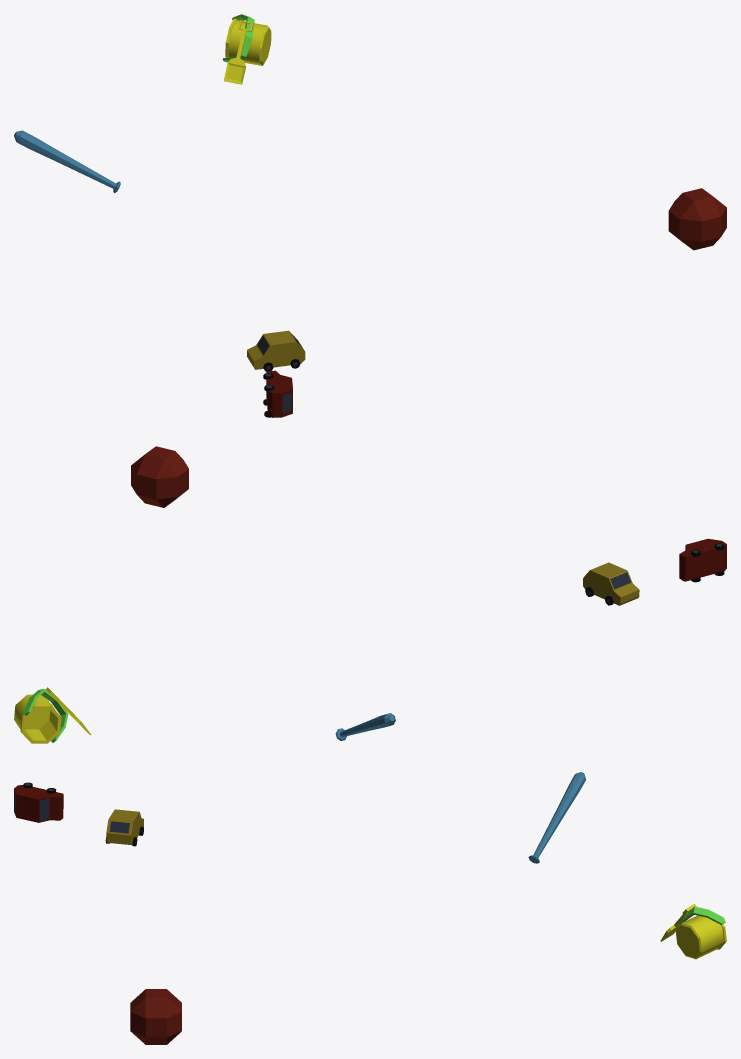
Rendered from KIDSTOYS.fbx.
The picture shows the model from 3 angles, top to bottom: view 1: azimuth 30°, elevation 25°; view 2: azimuth 150°, elevation 25°; view 3: azimuth 270°, elevation 25°; orthographic projection. The views are drawn at different scales.
Parts seen in each view (by area): view 1: ball, ToyCar002, ChildsBucket, BaseballBall_toy, ToyCar, ChildsSpade; view 2: ball, ChildsBucket, ToyCar, ToyCar002, BaseballBall_toy; view 3: ball, ChildsBucket, ToyCar, ToyCar002, BaseballBall_toy.
Boxes of the visible parts, x1,y1,x2,y2 form: ball: (668,188,726,250); ToyCar002: (247,330,305,371); ChildsBucket: (223,14,271,65); BaseballBall_toy: (14,130,120,193); ToyCar: (263,370,292,417); ChildsSpade: (223,20,253,84); ball: (131,446,188,507); ChildsBucket: (14,688,68,743); ToyCar: (679,538,726,582); ToyCar002: (583,562,639,605); BaseballBall_toy: (335,713,395,740); ball: (130,989,181,1044); ChildsBucket: (675,906,726,959); ToyCar: (14,782,63,822); ToyCar002: (105,809,143,846); BaseballBall_toy: (528,772,585,863).
Size of the model in its own units: 501 by 56.44 by 622.
